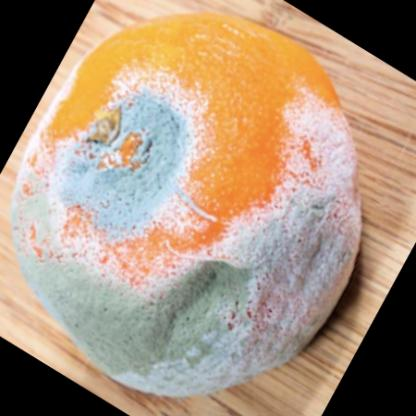rotten: (11, 14, 363, 398)
